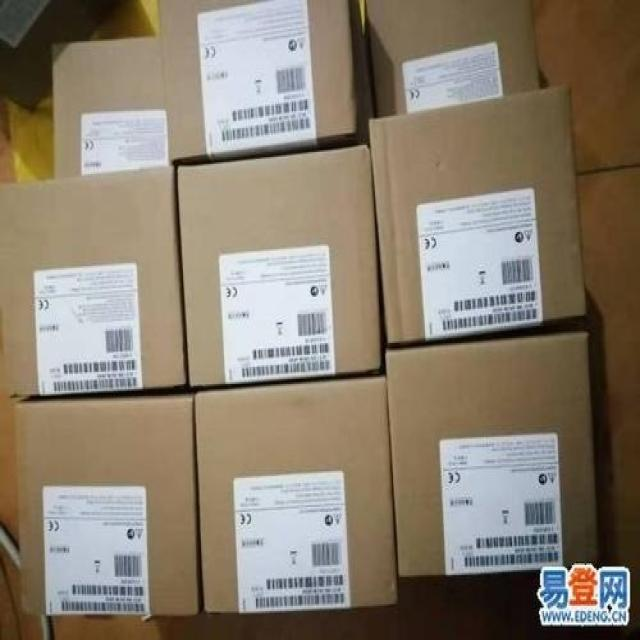box: (367, 86, 588, 347), (385, 332, 598, 577), (177, 144, 381, 386), (196, 377, 396, 610), (0, 165, 186, 398), (14, 393, 198, 613), (158, 2, 368, 167), (364, 1, 542, 121), (53, 36, 169, 177), (0, 1, 126, 113)
